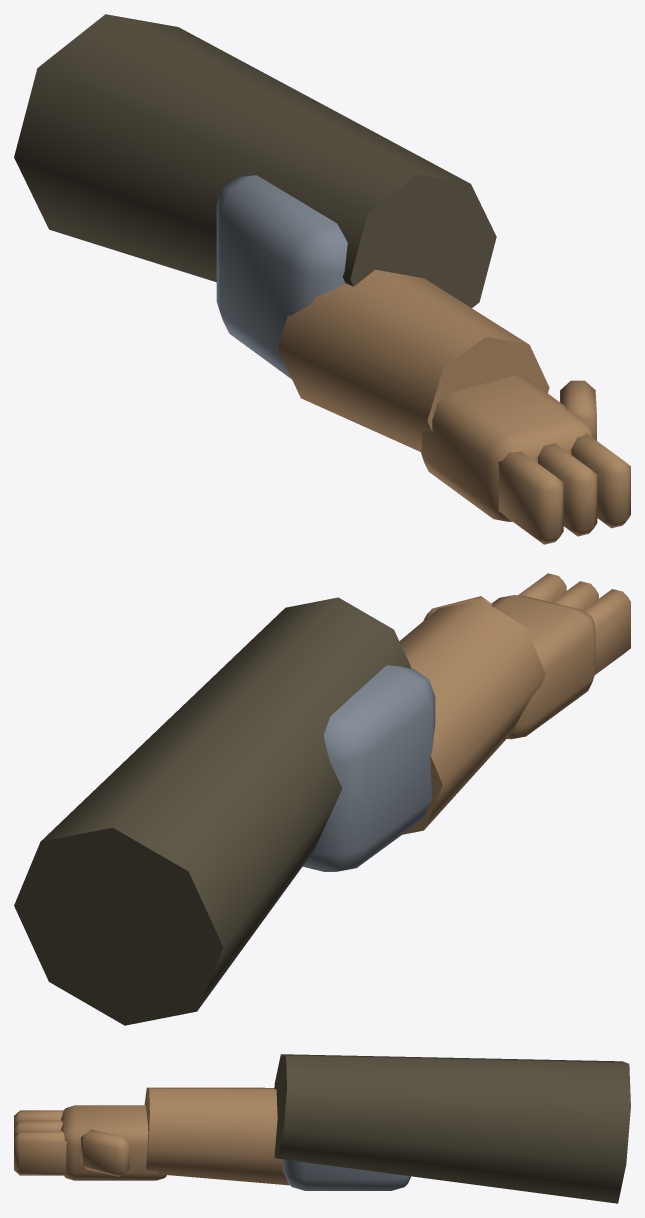
The model's file is fp_arm.glb.
3 views of the same model, one above another, from view 1: azimuth 30°, elevation 25°; view 2: azimuth 150°, elevation 25°; view 3: azimuth 270°, elevation 25° (orthographic). The views are drawn at different scales.
Parts seen in each view (by area): view 1: fp_arm; view 2: fp_arm; view 3: fp_arm.
Part boxes in pixels (bbox=[...]): fp_arm: bbox=[14, 14, 630, 544]; fp_arm: bbox=[14, 573, 630, 1025]; fp_arm: bbox=[14, 1054, 630, 1203].
Size of the model in its own units: 0.1566 by 0.17 by 0.6088.
